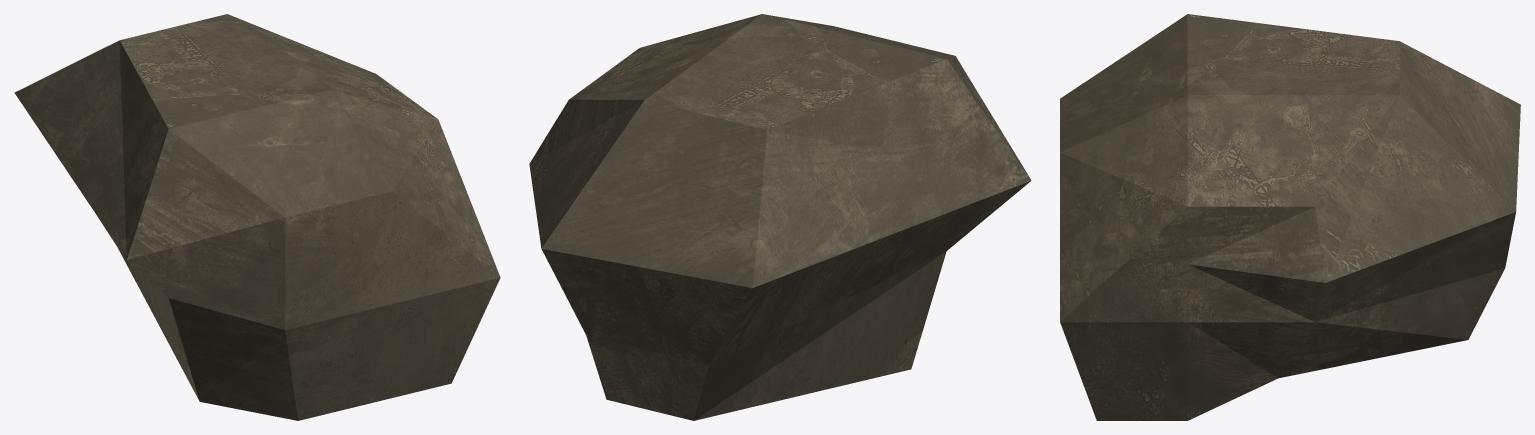
Rendered from big_rock.dae.
3 views of the same model, side by side, from view 1: azimuth 30°, elevation 25°; view 2: azimuth 150°, elevation 25°; view 3: azimuth 270°, elevation 25° (orthographic). The views are drawn at different scales.
Parts seen in each view (by area): view 1: Cube; view 2: Cube; view 3: Cube.
Boxes of the visible parts, x1,y1,x2,y2 form: Cube: (14, 14, 500, 420); Cube: (529, 14, 1031, 420); Cube: (1060, 14, 1520, 420).
Size of the model in its own units: 3.32 by 3.61 by 2.49.
